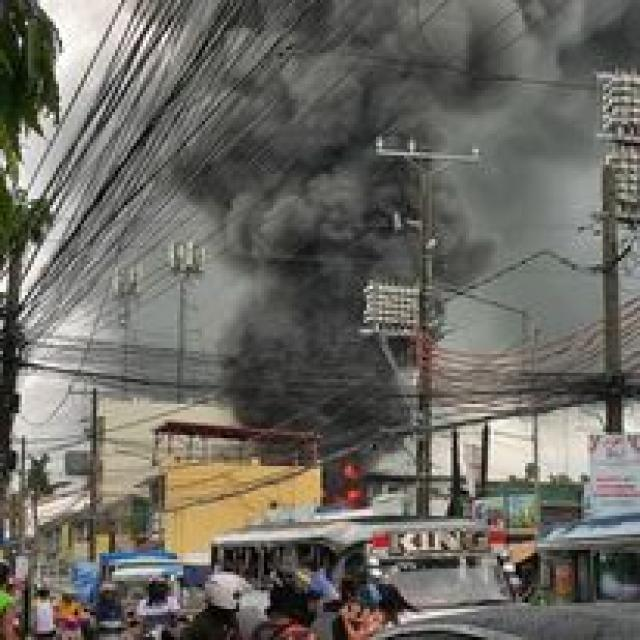Fire: (328, 452, 362, 498)
Smoke: (190, 6, 430, 406), (428, 0, 618, 354), (105, 253, 222, 355)
